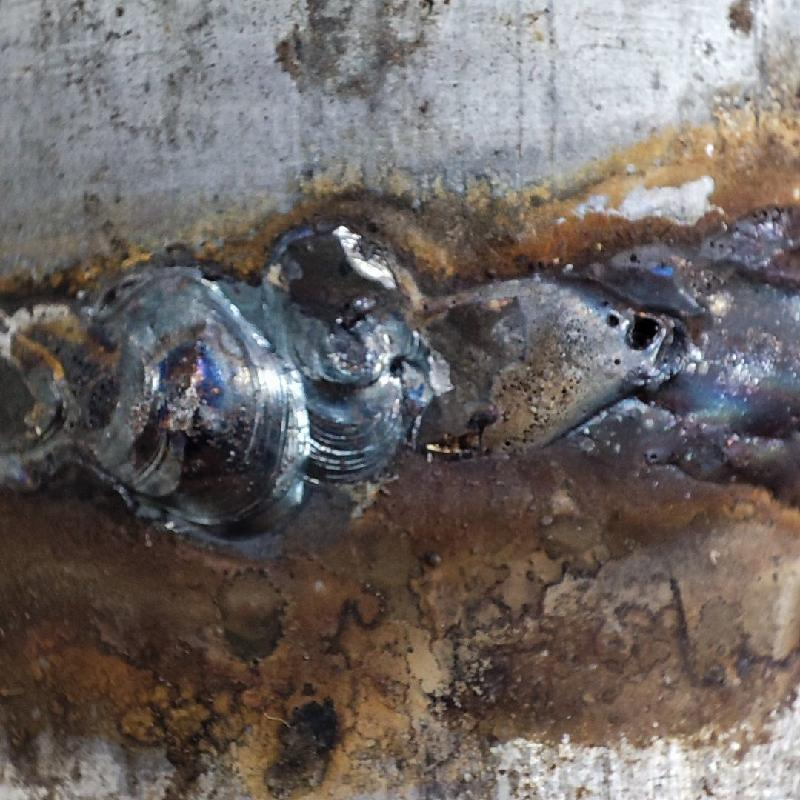Not_fully_soldered: (288, 248, 663, 460)
Surface_pores: (599, 305, 665, 369)
wrong_size: (4, 301, 298, 525)
